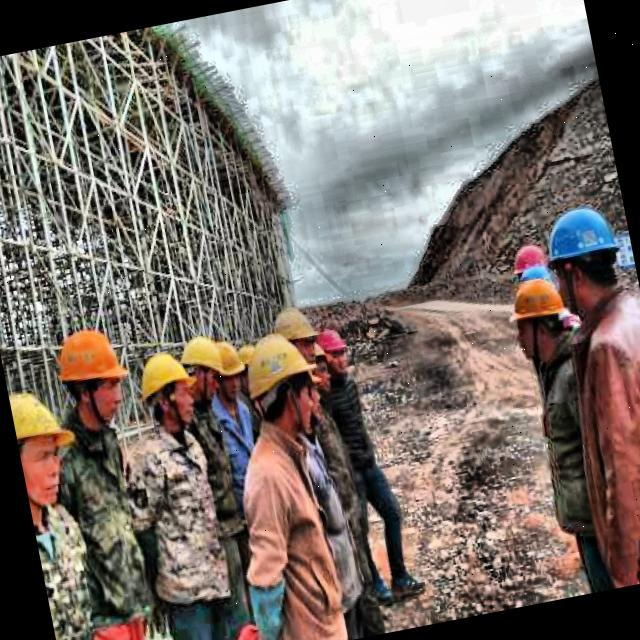helmet: (535, 193, 638, 324), (44, 314, 144, 438), (240, 322, 328, 446), (8, 376, 79, 514), (496, 266, 582, 370), (134, 346, 198, 430), (183, 332, 233, 412), (275, 302, 318, 369), (212, 337, 250, 408), (317, 328, 355, 384)
